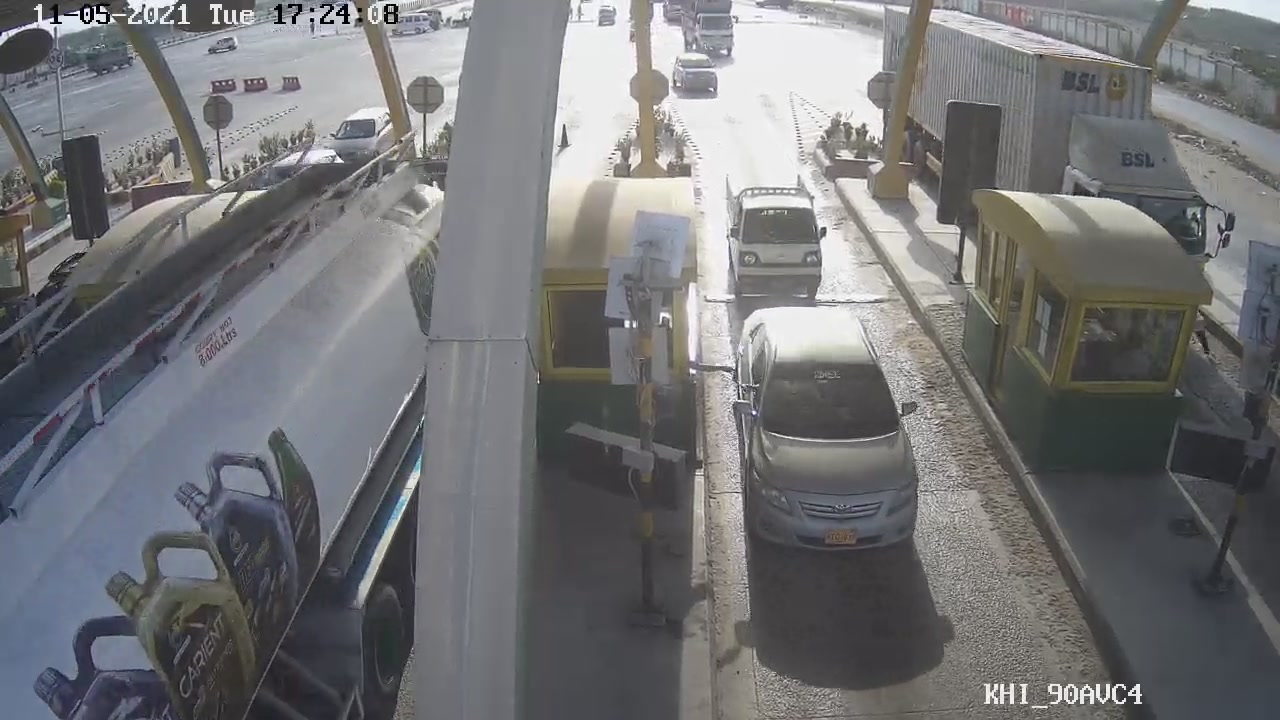F1: (727, 306, 931, 557), (719, 165, 836, 309)
